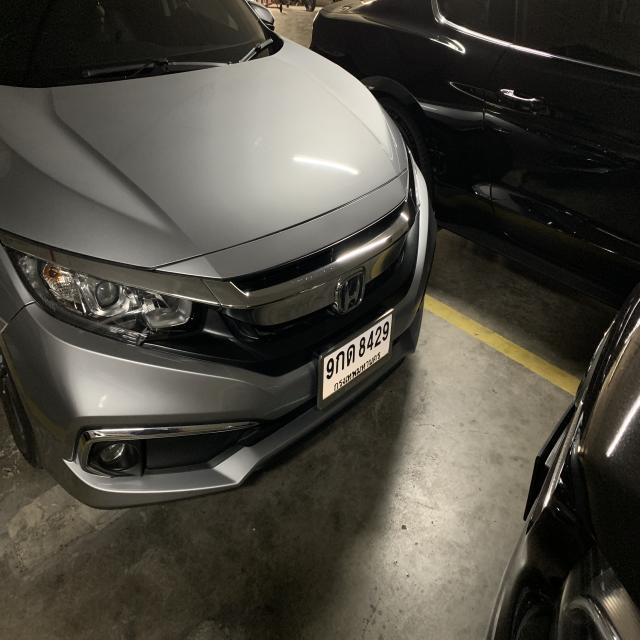license_plate: (314, 306, 396, 414)
